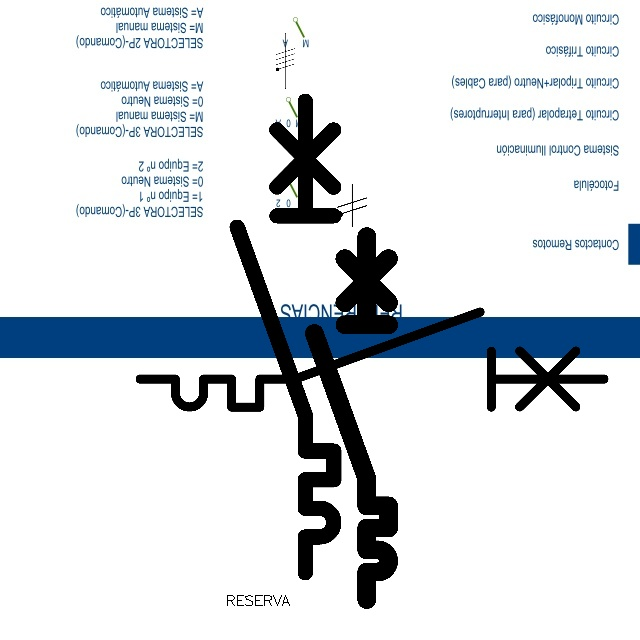interruptor_termomagnetico: (225, 89, 346, 585), (128, 300, 616, 419), (305, 227, 398, 609)
